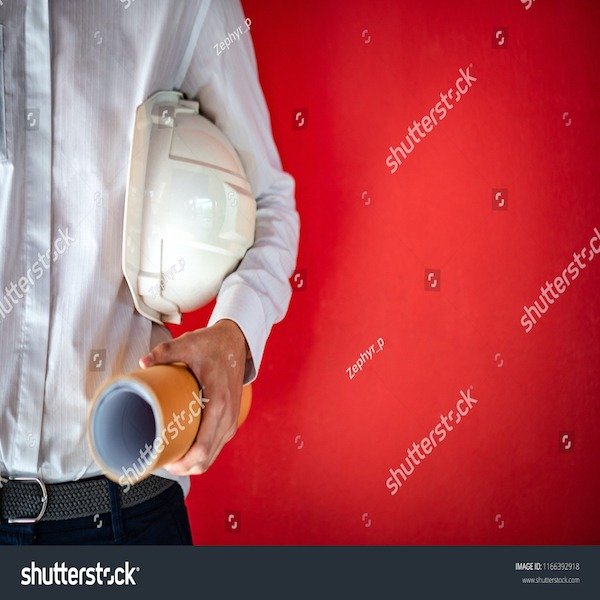helmet: (122, 90, 255, 318)
